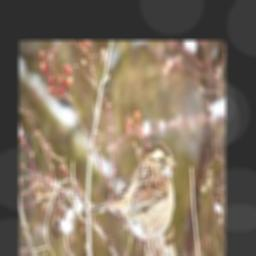Sparrow: (90, 143, 178, 254)
